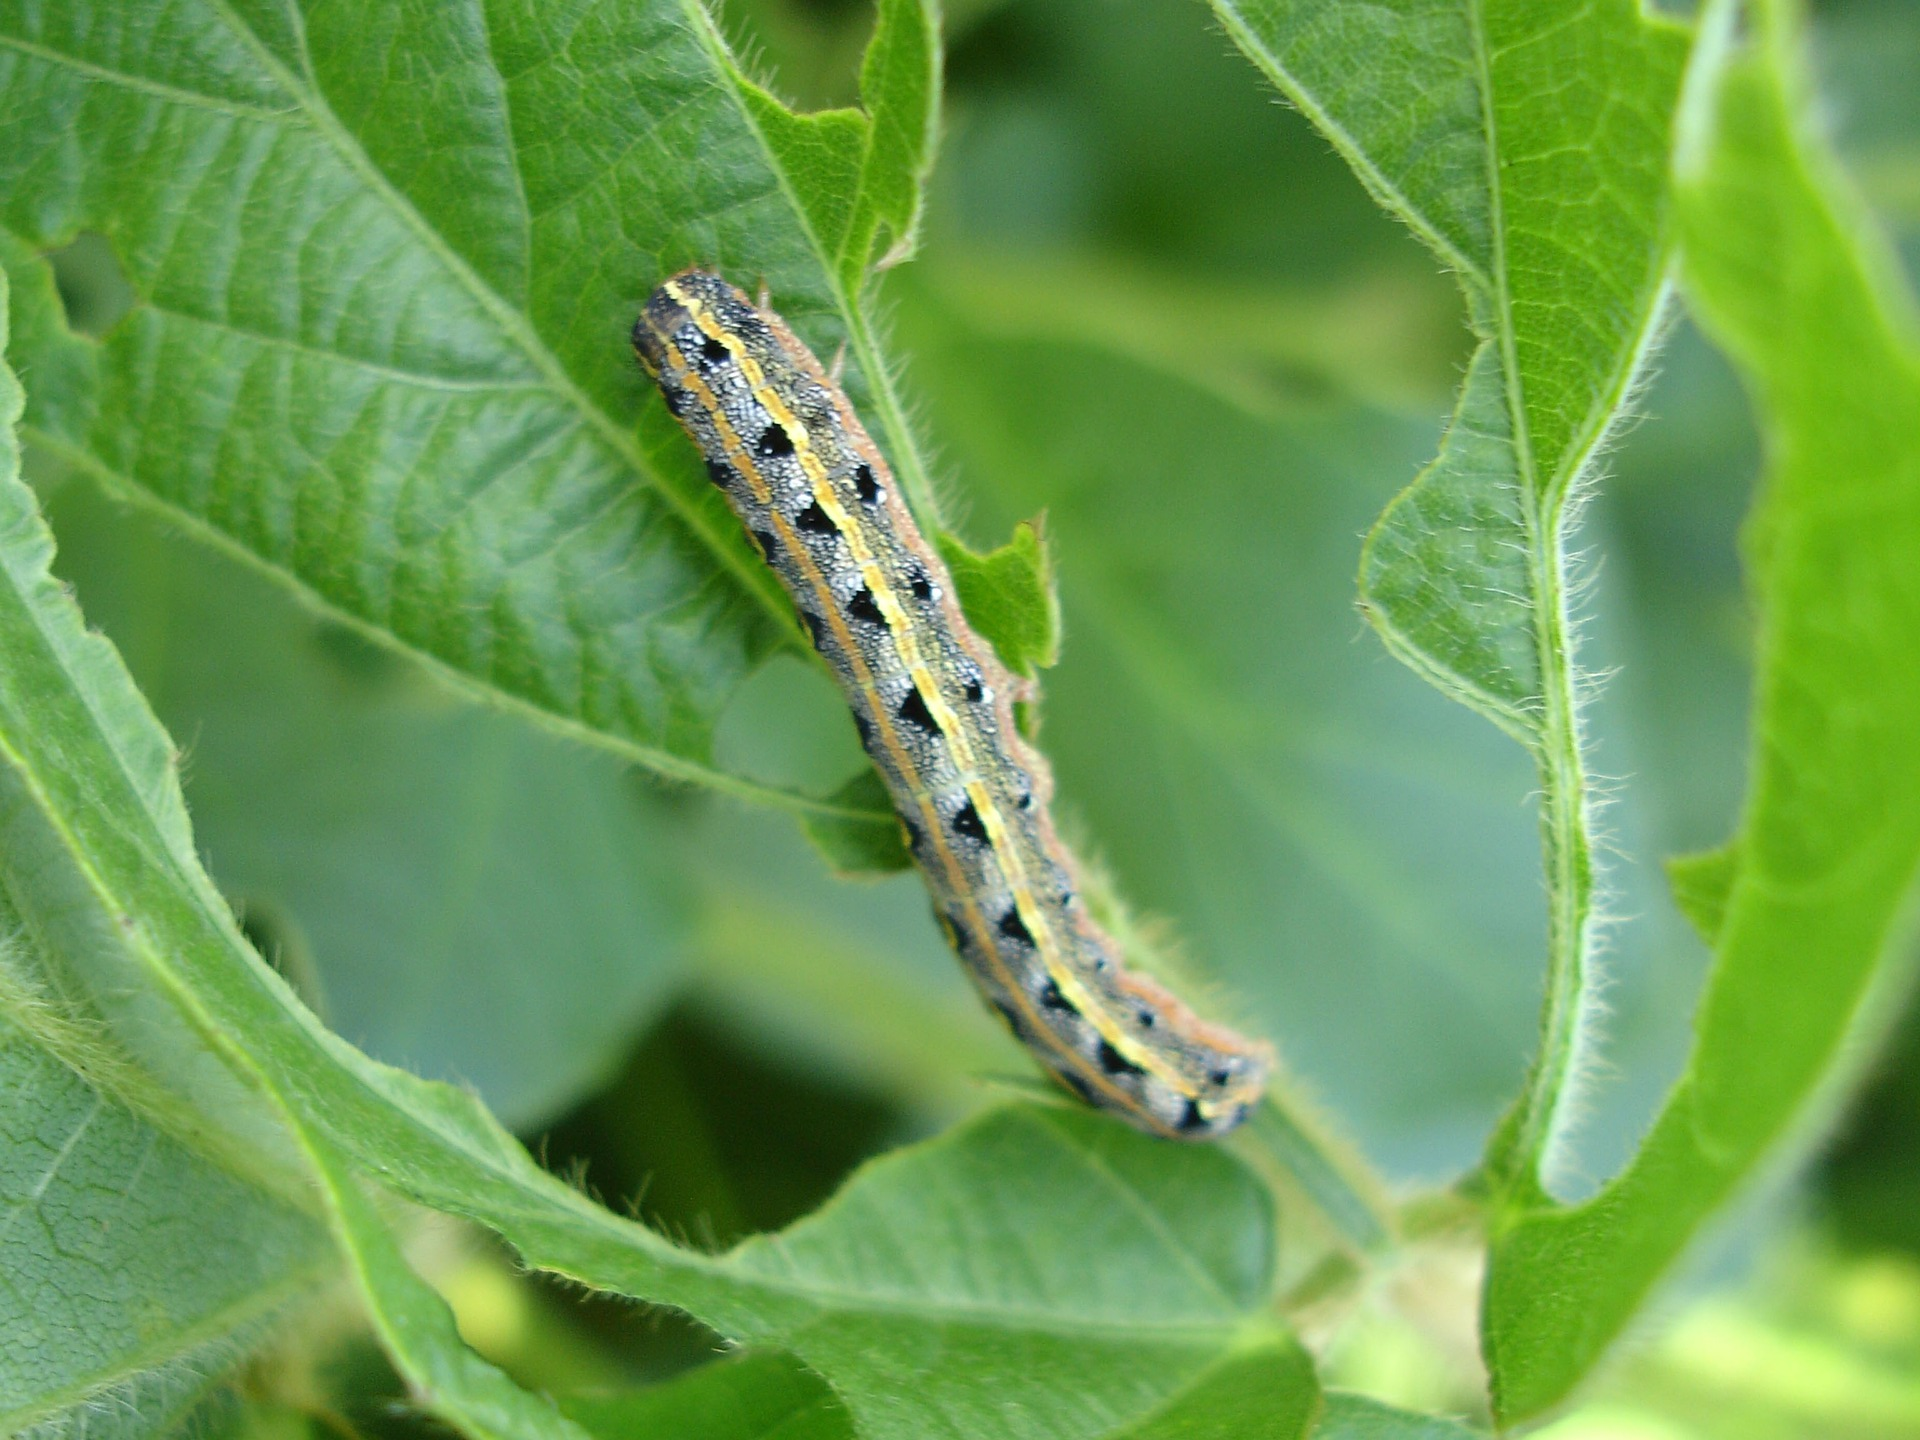Armyworm: (598, 240, 1324, 1163)
